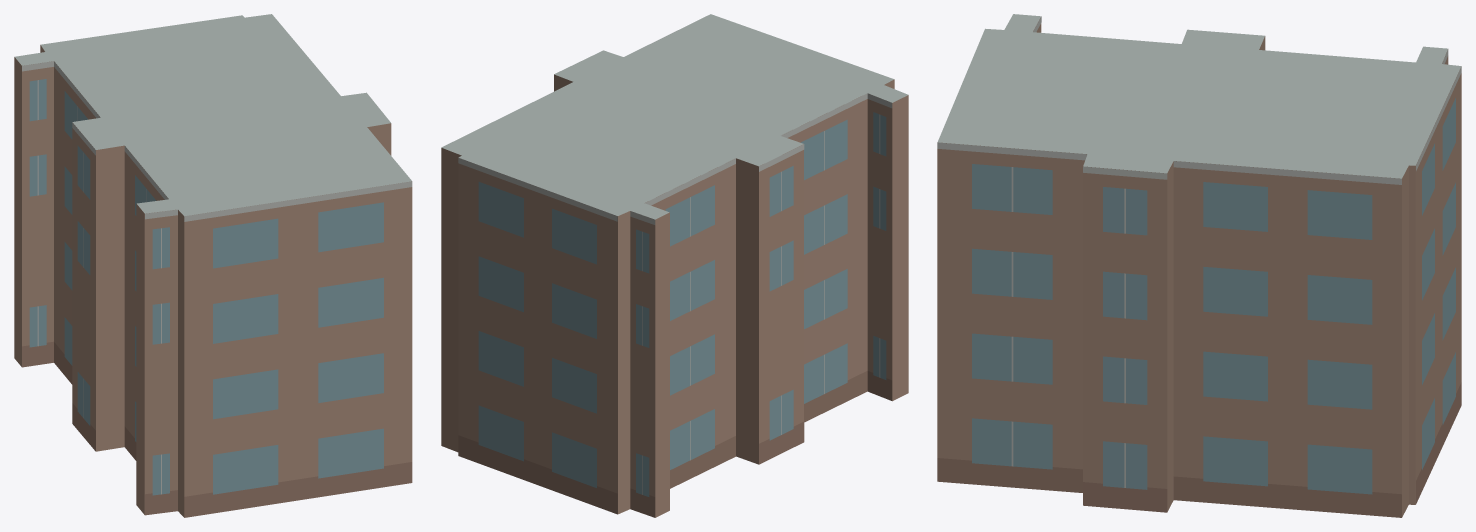
Rendered from survey-upis-33036429.glb.
3 renders of one model, left to right at view 1: azimuth 30°, elevation 25°; view 2: azimuth 150°, elevation 25°; view 3: azimuth 270°, elevation 25°, orthographic. The views are drawn at different scales.
Parts seen in each view (by area): view 1: survey-upis-33036429.tmp; view 2: survey-upis-33036429.tmp; view 3: survey-upis-33036429.tmp.
Boxes of the visible parts, x1,y1,x2,y2 form: survey-upis-33036429.tmp: (14, 14, 412, 517); survey-upis-33036429.tmp: (441, 14, 908, 517); survey-upis-33036429.tmp: (937, 14, 1461, 517).
Size of the model in its own units: 13.44 by 12.9 by 18.07.
